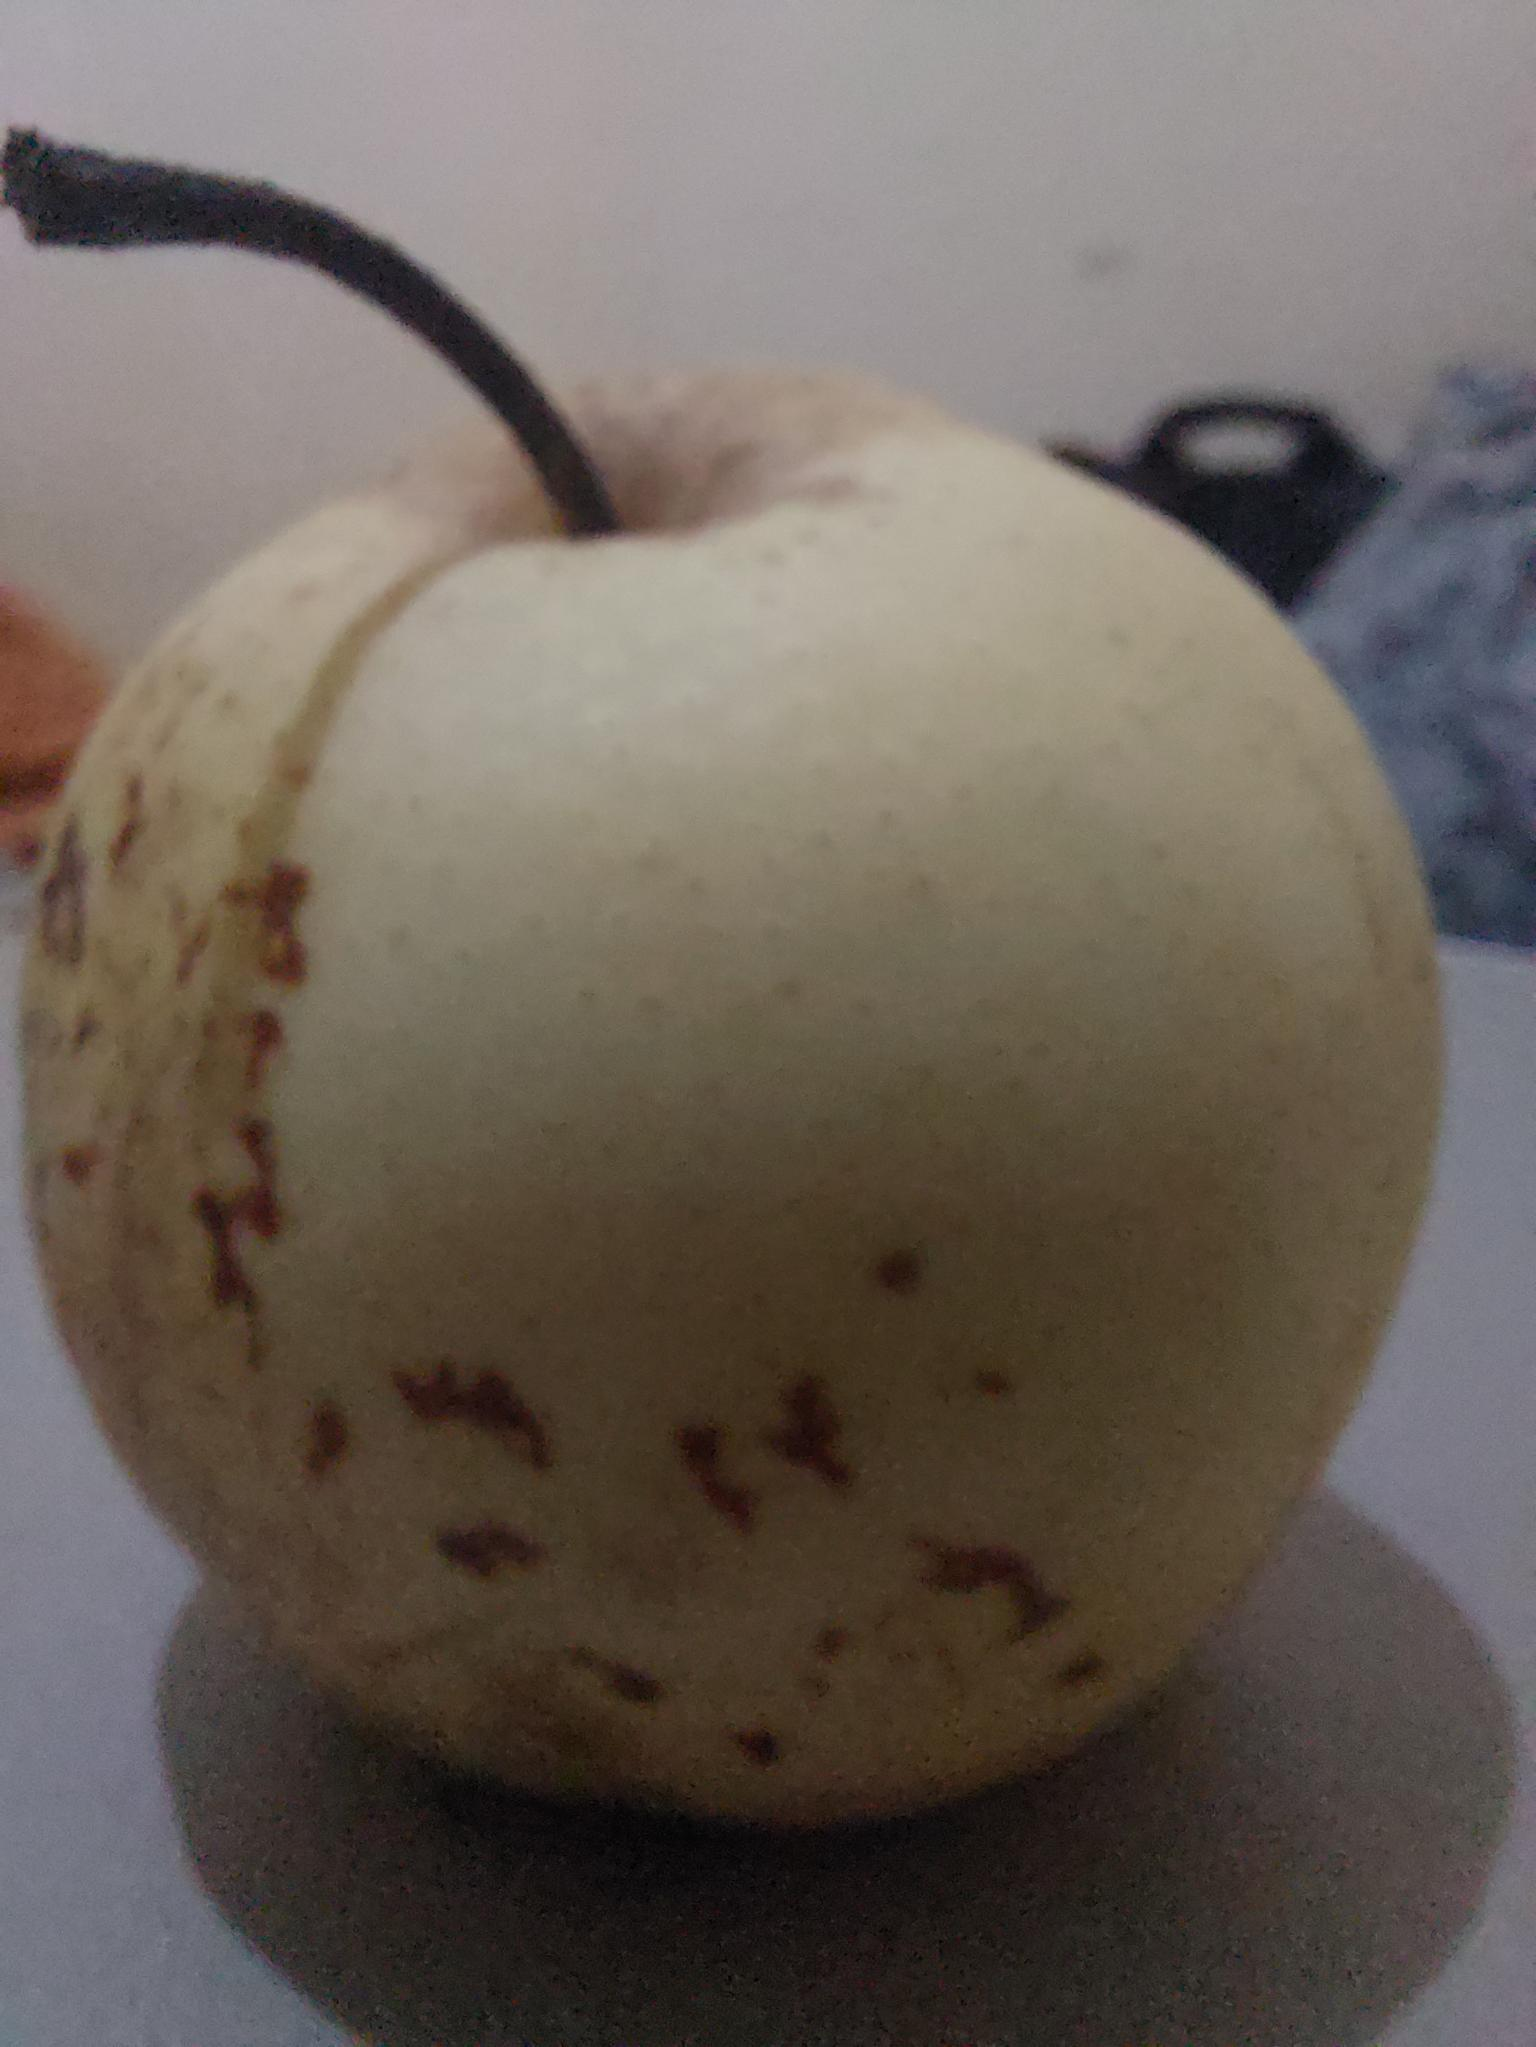Bad Pear: (32, 382, 1396, 1792)
